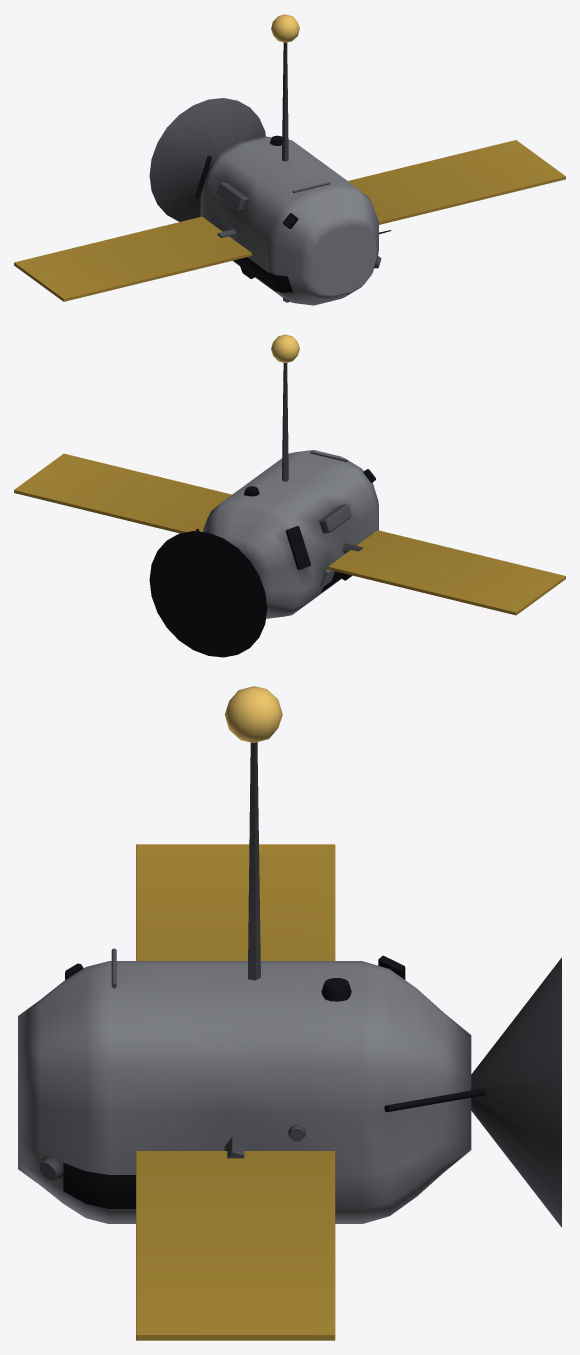
Rendered from buoy-transformed.glb.
3 renders of one model, top to bottom at view 1: azimuth 30°, elevation 25°; view 2: azimuth 150°, elevation 25°; view 3: azimuth 270°, elevation 25°, orthographic. The views are drawn at different scales.
Visible parts, largest first — view 1: buoy; view 2: buoy; view 3: buoy.
Part boxes in pixels (bbox=[...]): buoy: bbox=[14, 14, 565, 305]; buoy: bbox=[14, 334, 565, 657]; buoy: bbox=[18, 686, 561, 1340].
Size of the model in its own units: 25.6 by 13.29 by 12.
